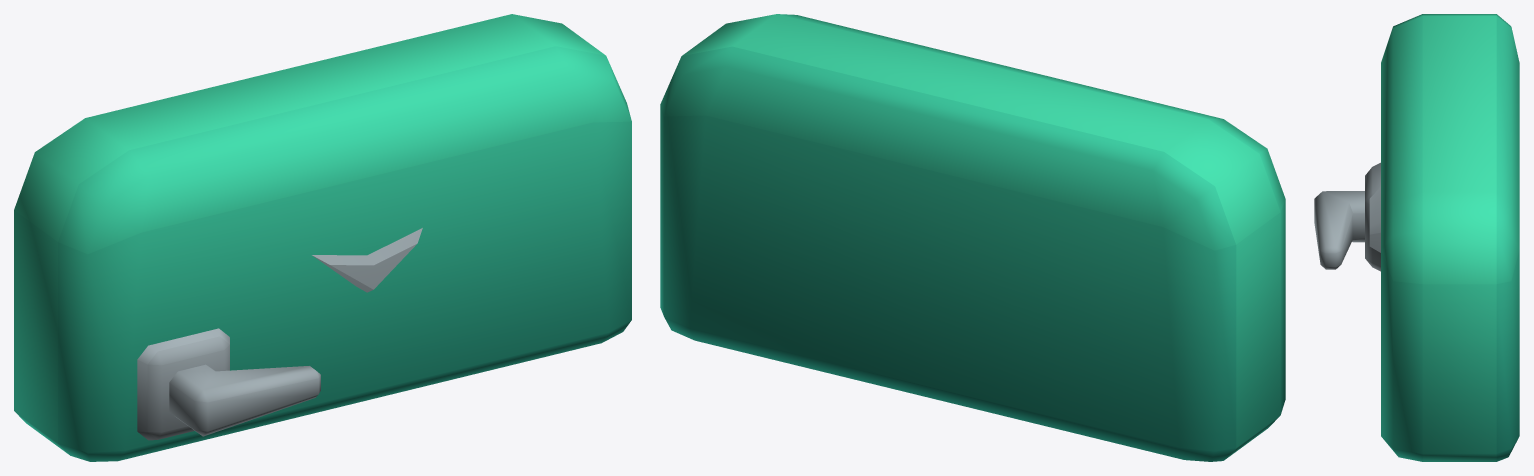
File: fridge_A_door_top.obj
3 views of the same model, side by side, from view 1: azimuth 30°, elevation 25°; view 2: azimuth 150°, elevation 25°; view 3: azimuth 270°, elevation 25° (orthographic). The views are drawn at different scales.
Parts seen in each view (by area): view 1: fridge_A_door_top_Cube.617; view 2: fridge_A_door_top_Cube.617; view 3: fridge_A_door_top_Cube.617.
Part boxes in pixels (x1=…): fridge_A_door_top_Cube.617: x1=14, y1=14, x2=631, y2=461; fridge_A_door_top_Cube.617: x1=660, y1=14, x2=1285, y2=461; fridge_A_door_top_Cube.617: x1=1314, y1=14, x2=1519, y2=461.
Size of the model in its own units: 2 by 1 by 0.74.
Materials: 1 (1 with a texture image).
